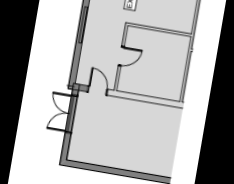door: (118, 43, 144, 71), (87, 65, 112, 91)
double door: (43, 90, 75, 134)
wall: (56, 153, 175, 184), (65, 0, 98, 97), (58, 80, 82, 163), (64, 79, 95, 96)
window: (72, 2, 93, 47)
